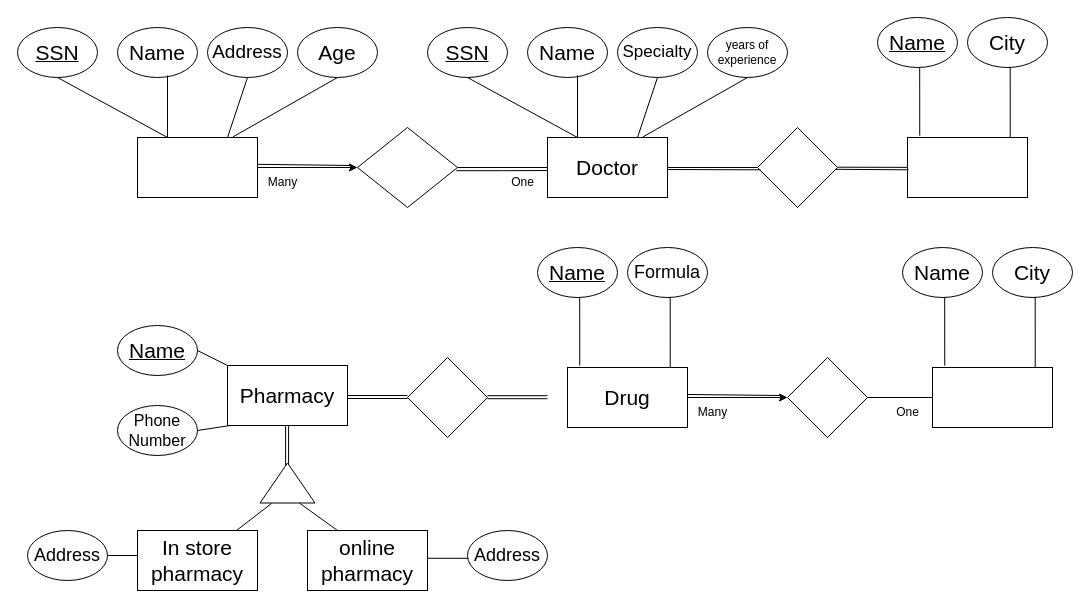
Image size: 1090x608. Some labels were removed from this diagram. Each missing label, with the box of its shape:
Clinic: (906, 136, 1028, 198)
Drug Company: (932, 366, 1052, 428)
has physician/ Has patient: (356, 126, 458, 208)
is a: (259, 462, 315, 503)
Made by: (786, 356, 868, 438)
Patient: (136, 136, 258, 198)
Sells: (406, 356, 488, 438)
Works for: (756, 126, 838, 208)
